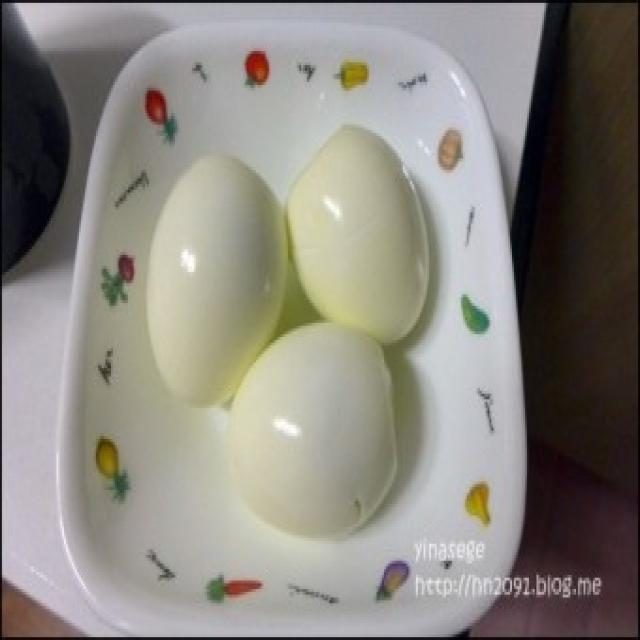eggs: (224, 319, 403, 534), (143, 148, 288, 412), (284, 119, 428, 340)
